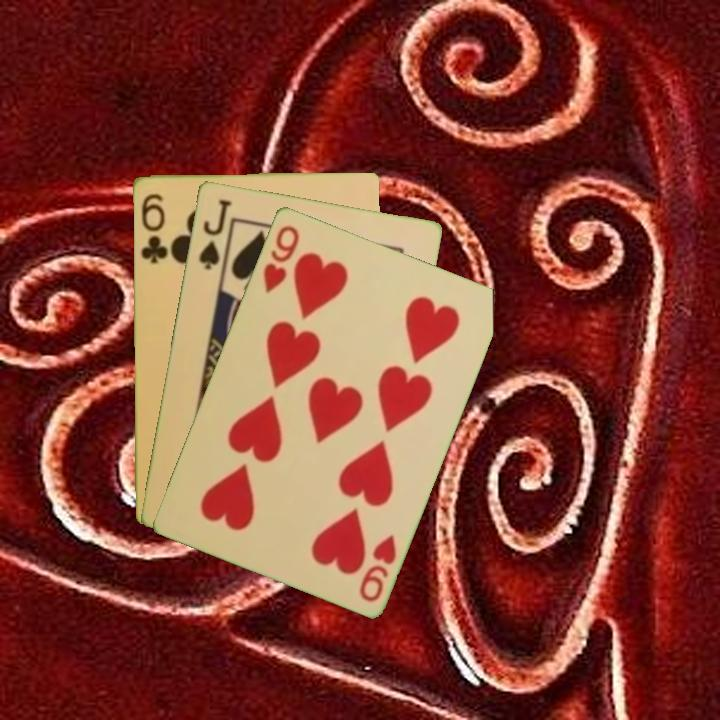6c: (137, 190, 170, 266)
9h: (355, 530, 399, 605), (259, 221, 302, 296)
Js: (194, 195, 234, 272)
